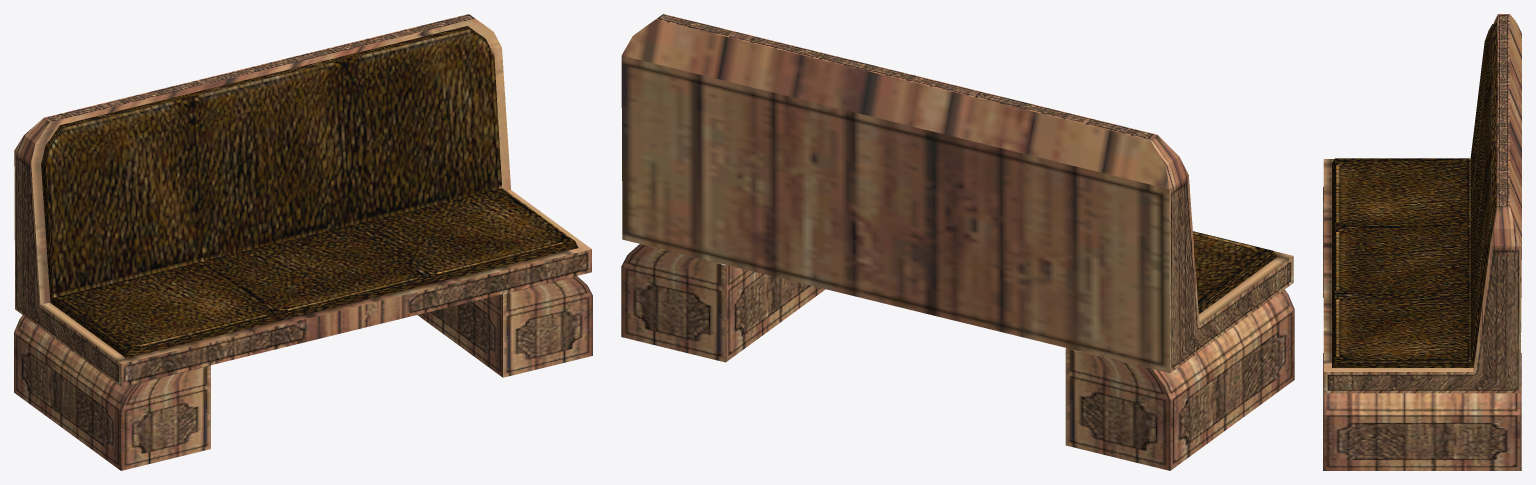
File: frn_all_eleg_couch_s02_l0.fbx
The picture shows the model from 3 angles, left to right: view 1: azimuth 30°, elevation 25°; view 2: azimuth 150°, elevation 25°; view 3: azimuth 270°, elevation 25°; orthographic projection. The views are drawn at different scales.
Parts seen in each view (by area): view 1: mesh_node; view 2: mesh_node; view 3: mesh_node.
Boxes of the visible parts, box(x1,y1,x2,y2) form: mesh_node: box(14, 14, 592, 470); mesh_node: box(621, 14, 1294, 470); mesh_node: box(1323, 14, 1521, 470).
Size of the model in its own units: 1.8 by 0.9972 by 0.7077.
Materials: 1 (1 with a texture image).
